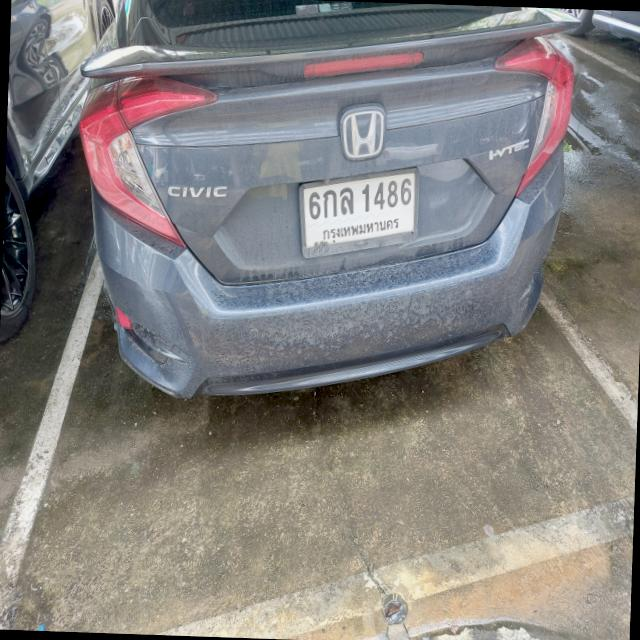license_plate: (294, 162, 422, 265)
